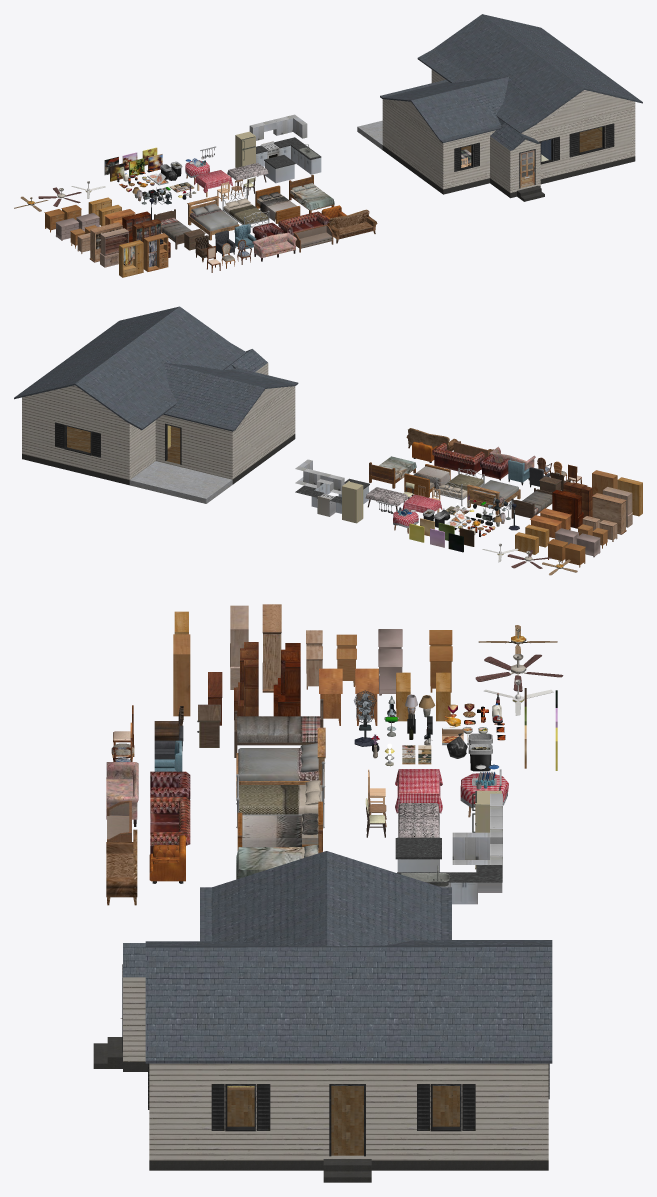
The model's file is objetos_vila.glb.
3 renders of one model, top to bottom at view 1: azimuth 30°, elevation 25°; view 2: azimuth 150°, elevation 25°; view 3: azimuth 270°, elevation 25°, orthographic. The views are drawn at different scales.
Parts seen in each view (by area): view 1: House_Demo_001, House_Demo_040, bed_01, Kitchen, bed_03, bed_04, Armchair_08, bed_02, Wardrobe_01, Wardrobe, Armchair_06, Fitment_02 (+11 smaller); view 2: House_Demo_040, House_Demo_001, bed_01, bed_03, Armchair_04, Fitment, bed_04, bed_02, Refrigerator.001, Bookcase_01, bed, Kitchen (+14 smaller); view 3: House_Demo_001, House_Demo_040, bed_01, bed_02, bed_03, bed, Kitchen, Armchair_04, Armchair_08, Cupboard_01.003, bed_04, Bookcase_01 (+18 smaller).
Part boxes in pixels (x1,y1,x2,y2): House_Demo_001: [380, 14, 642, 150]; House_Demo_040: [357, 69, 635, 198]; bed_01: [187, 196, 239, 240]; Kitchen: [256, 137, 321, 174]; bed_03: [255, 185, 300, 223]; bed_04: [289, 175, 334, 213]; Armchair_08: [329, 209, 377, 243]; bed_02: [222, 189, 269, 227]; Wardrobe_01: [143, 233, 168, 271]; Wardrobe: [119, 240, 143, 277]; Armchair_06: [252, 232, 296, 261]; Fitment_02: [100, 228, 128, 267]; House_Demo_040: [22, 363, 295, 503]; House_Demo_001: [14, 306, 298, 431]; bed_01: [466, 480, 520, 514]; bed_03: [404, 464, 450, 497]; Armchair_04: [432, 442, 484, 475]; Fitment: [592, 493, 626, 534]; bed_04: [369, 456, 416, 488]; bed_02: [436, 468, 484, 506]; Refrigerator.001: [342, 481, 363, 523]; Bookcase_01: [552, 490, 583, 528]; bed: [511, 488, 552, 518]; Kitchen: [295, 482, 341, 516]; House_Demo_001: [123, 851, 552, 1063]; House_Demo_040: [123, 977, 548, 1170]; bed_01: [236, 727, 325, 798]; bed_02: [236, 761, 325, 828]; bed_03: [237, 801, 322, 850]; bed: [234, 699, 323, 757]; Kitchen: [397, 865, 502, 904]; Armchair_04: [150, 797, 190, 853]; Armchair_08: [106, 829, 137, 905]; Cupboard_01.003: [452, 816, 502, 864]; bed_04: [236, 829, 322, 879]; Bookcase_01: [273, 643, 300, 716].
Size of the model in its own units: 36.21 by 5.52 by 13.59.
100 materials, 100 textured.
